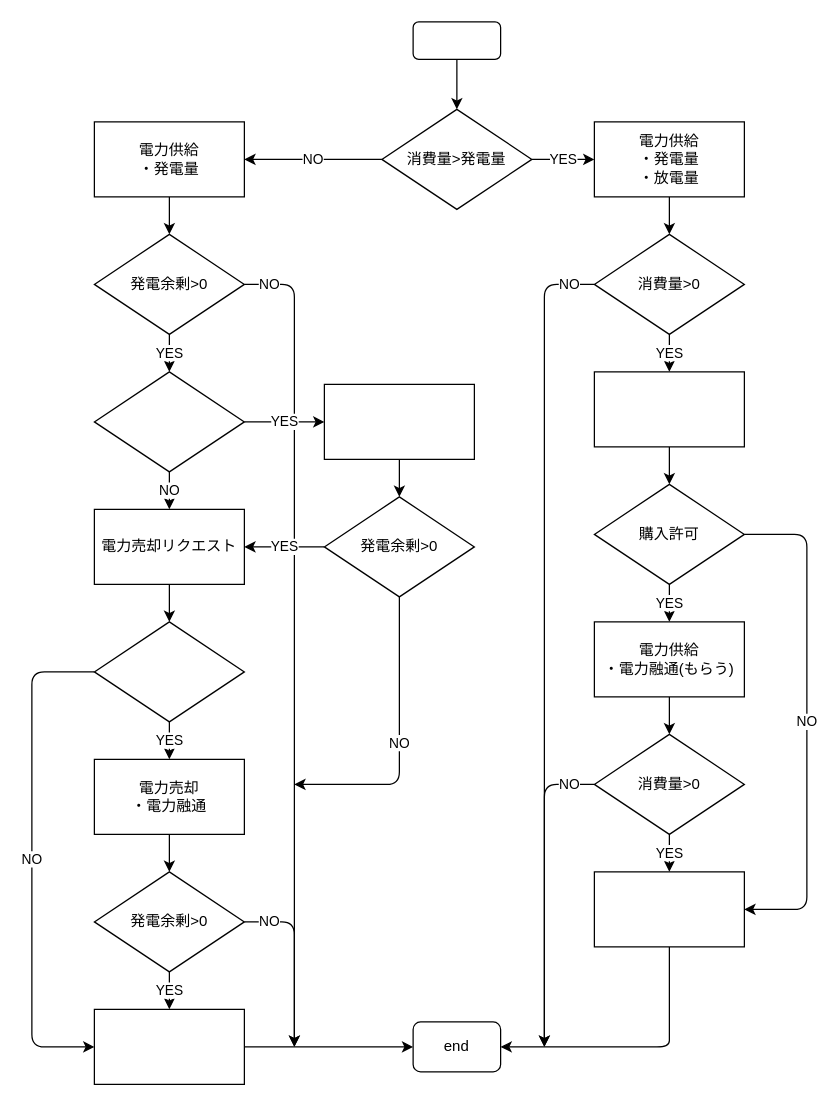
The diagram is 839 pixels wide and 1106 high, and some of its shapes have lost their labels. Each missing label, with the box of its shape:
start: (412, 21, 501, 59)
充電 ・発電余剰: (323, 383, 474, 459)
売却許可: (93, 621, 244, 722)
空き容量>0: (93, 371, 244, 472)
電力供給 ・系統: (593, 871, 744, 947)
電力売却 ・系統: (93, 1008, 244, 1084)
電力購入リクエスト: (593, 371, 744, 447)
